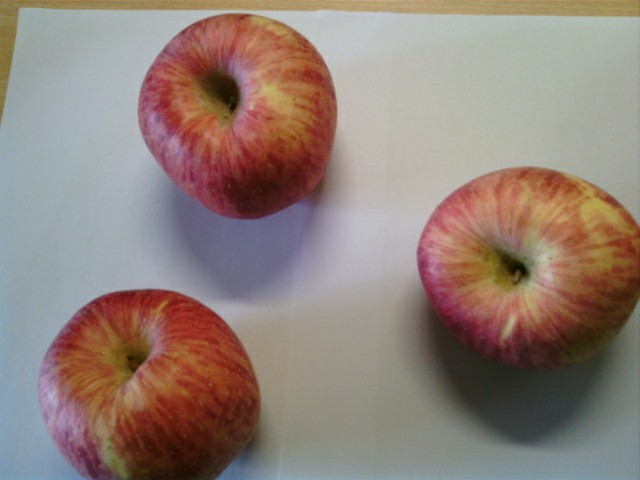normal_apple: (416, 165, 640, 373), (34, 286, 262, 480), (136, 12, 338, 222)
